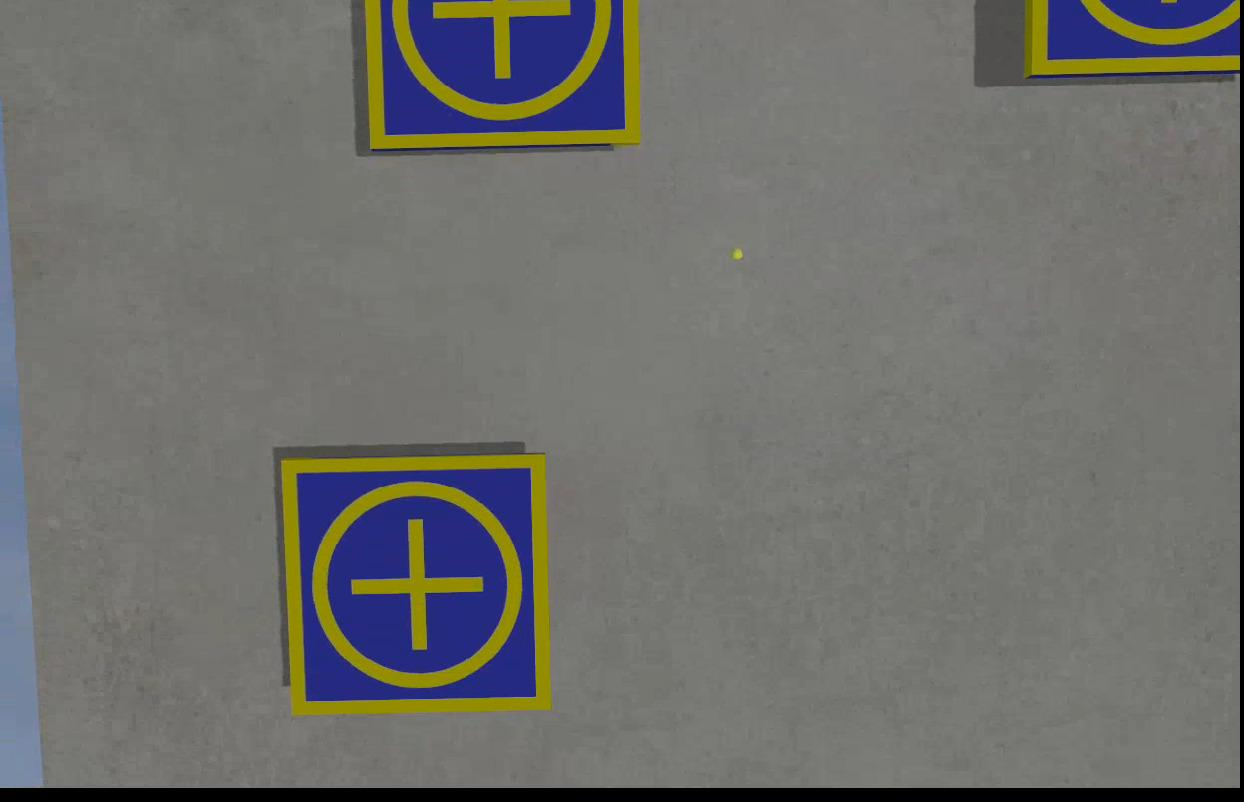small_base: (281, 455, 555, 718), (365, 1, 645, 153), (1022, 1, 1244, 84)
